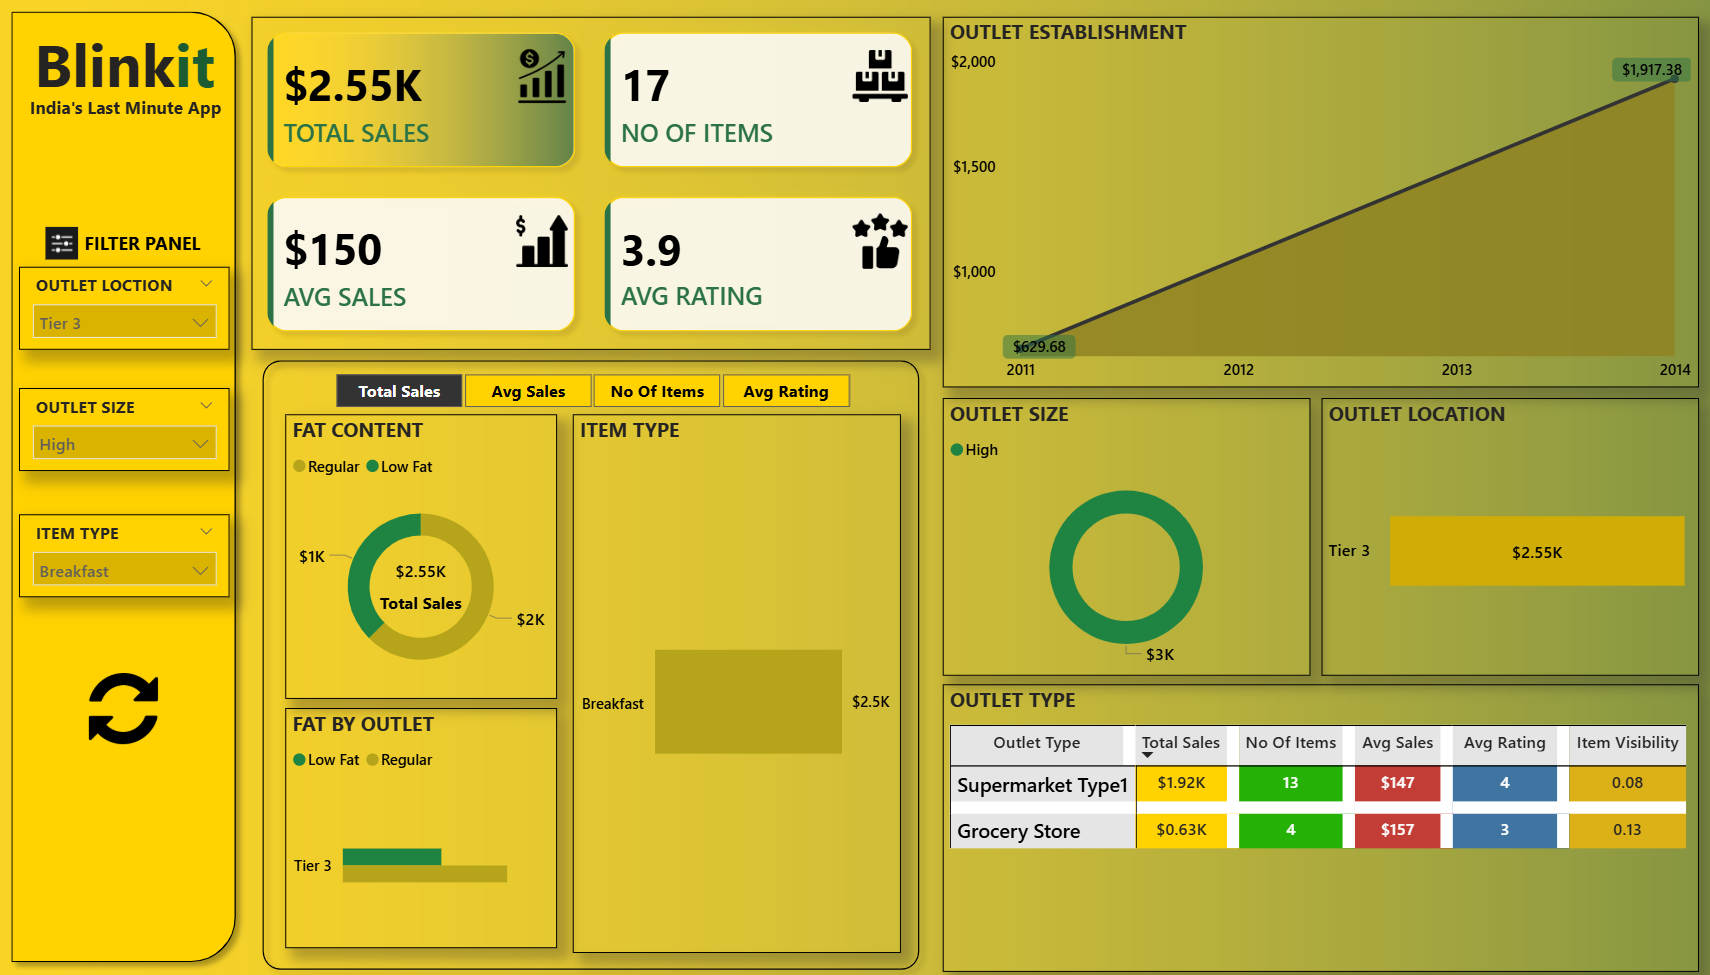

The page's visual inventory and layout, read from the dashboard file:
{"tool":"powerbi","page":{"name":"Page 1","canvas":[1400,800],"ordinal":0},"visuals":[{"type":"shape","box":[5.1,6.4,199.7,787.2],"z":0},{"type":"textbox","box":[1.3,19.1,214.9,85.2],"z":1000},{"type":"textbox","box":[1.3,77.6,207.3,35.6],"z":2000},{"type":"cardVisual","fields":{"Data":["BlinkIT Grocery Data.Total Sales","BlinkIT Grocery Data.No Of Items","BlinkIT Grocery Data.Avg Sales","BlinkIT Grocery Data.Avg Rating"]},"box":[208.6,19.1,549.4,269.6],"z":3000},{"type":"shape","box":[208.6,288.7,549.4,511.3],"z":4000},{"type":"donutChart","title":"FAT CONTENT","fields":{"Y":["BlinkIT Grocery Data.Total Sales"],"Category":["BlinkIT Grocery Data.Item Fat Content"]},"box":[235.3,340.8,220,230.2],"z":5000},{"type":"slicer","fields":{"Values":["Matrics.Matrics"]},"box":[250.5,301.4,465.5,39.4],"z":6000},{"type":"card","fields":{"Values":["BlinkIT Grocery Data.Total Sales"]},"box":[300.1,441.3,90.3,76.3],"z":7000},{"type":"clusteredBarChart","title":"FAT BY OUTLET","fields":{"Y":["BlinkIT Grocery Data.Total Sales"],"Category":["BlinkIT Grocery Data.Outlet Location Type"],"Series":["BlinkIT Grocery Data.Item Fat Content"]},"box":[235.3,578.7,220,194.6],"z":8000},{"type":"barChart","title":"ITEM TYPE","fields":{"Y":["BlinkIT Grocery Data.Total Sales"],"Category":["BlinkIT Grocery Data.Item Type"]},"box":[468,340.8,265.8,436.2],"z":9000},{"type":"lineChart","title":"OUTLET ESTABLISHMENT","fields":{"Y":["BlinkIT Grocery Data.Total Sales"],"Category":["BlinkIT Grocery Data.Outlet Establishment Year"]},"box":[768.2,19.1,611.7,300.1],"z":10000},{"type":"donutChart","title":"OUTLET SIZE","fields":{"Y":["BlinkIT Grocery Data.Total Sales"],"Category":["BlinkIT Grocery Data.Outlet Size"]},"box":[768.2,328.1,297.6,225.1],"z":11000},{"type":"funnel","title":"OUTLET LOCATION","fields":{"Category":["BlinkIT Grocery Data.Outlet Location Type"],"Y":["BlinkIT Grocery Data.Total Sales"]},"box":[1074.7,328.1,305.2,225.1],"z":12000},{"type":"pivotTable","title":"OUTLET TYPE","fields":{"Rows":["BlinkIT Grocery Data.Outlet Type"],"Values":["BlinkIT Grocery Data.Total Sales","BlinkIT Grocery Data.No Of Items","BlinkIT Grocery Data.Avg Sales","BlinkIT Grocery Data.Avg Rating","Avg(BlinkIT Grocery Data.Item Visibility)"]},"box":[768.2,559.6,611.7,232.7],"z":13000},{"type":"slicer","fields":{"Values":["BlinkIT Grocery Data.Outlet Location Type"]},"box":[20.3,221.3,170.4,67.4],"z":14000},{"type":"slicer","fields":{"Values":["BlinkIT Grocery Data.Outlet Size"]},"box":[20.3,319.2,170.4,67.4],"z":15000},{"type":"slicer","fields":{"Values":["BlinkIT Grocery Data.Item Type"]},"box":[20.3,422.2,170.4,67.4],"z":16000},{"type":"actionButton","box":[38.2,181.9,135.9,39.3],"z":17000},{"type":"image","box":[25.8,550.2,157.2,57.3],"z":18000}]}

Visuals, with their boxes in screenshot pixels (x1, y1, x2, y2), scaled from the page's 1400x800 canvas onto the 1710x975 screenshot:
shape: {"x1": 6, "y1": 8, "x2": 250, "y2": 967}
textbox: {"x1": 2, "y1": 23, "x2": 264, "y2": 127}
textbox: {"x1": 2, "y1": 95, "x2": 255, "y2": 138}
cardVisual - BlinkIT Grocery Data.Total Sales x BlinkIT Grocery Data.No Of Items: {"x1": 255, "y1": 23, "x2": 926, "y2": 352}
shape: {"x1": 255, "y1": 352, "x2": 926, "y2": 974}
"FAT CONTENT" donutChart: {"x1": 287, "y1": 415, "x2": 556, "y2": 696}
slicer - Matrics.Matrics: {"x1": 306, "y1": 367, "x2": 875, "y2": 415}
card - BlinkIT Grocery Data.Total Sales: {"x1": 367, "y1": 538, "x2": 477, "y2": 631}
"FAT BY OUTLET" clusteredBarChart: {"x1": 287, "y1": 705, "x2": 556, "y2": 942}
"ITEM TYPE" barChart: {"x1": 572, "y1": 415, "x2": 896, "y2": 947}
"OUTLET ESTABLISHMENT" lineChart: {"x1": 938, "y1": 23, "x2": 1685, "y2": 389}
"OUTLET SIZE" donutChart: {"x1": 938, "y1": 400, "x2": 1302, "y2": 674}
"OUTLET LOCATION" funnel: {"x1": 1313, "y1": 400, "x2": 1685, "y2": 674}
"OUTLET TYPE" pivotTable: {"x1": 938, "y1": 682, "x2": 1685, "y2": 966}
slicer - BlinkIT Grocery Data.Outlet Location Type: {"x1": 25, "y1": 270, "x2": 233, "y2": 352}
slicer - BlinkIT Grocery Data.Outlet Size: {"x1": 25, "y1": 389, "x2": 233, "y2": 471}
slicer - BlinkIT Grocery Data.Item Type: {"x1": 25, "y1": 515, "x2": 233, "y2": 597}
actionButton: {"x1": 47, "y1": 222, "x2": 213, "y2": 270}
image: {"x1": 32, "y1": 671, "x2": 224, "y2": 740}
